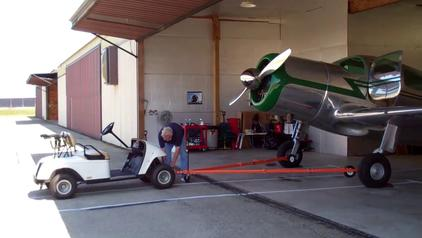stay: (123, 137, 151, 178)
